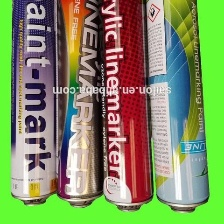aerosol_cans: (143, 0, 213, 216), (99, 0, 156, 214), (53, 0, 108, 210), (7, 0, 62, 209)
